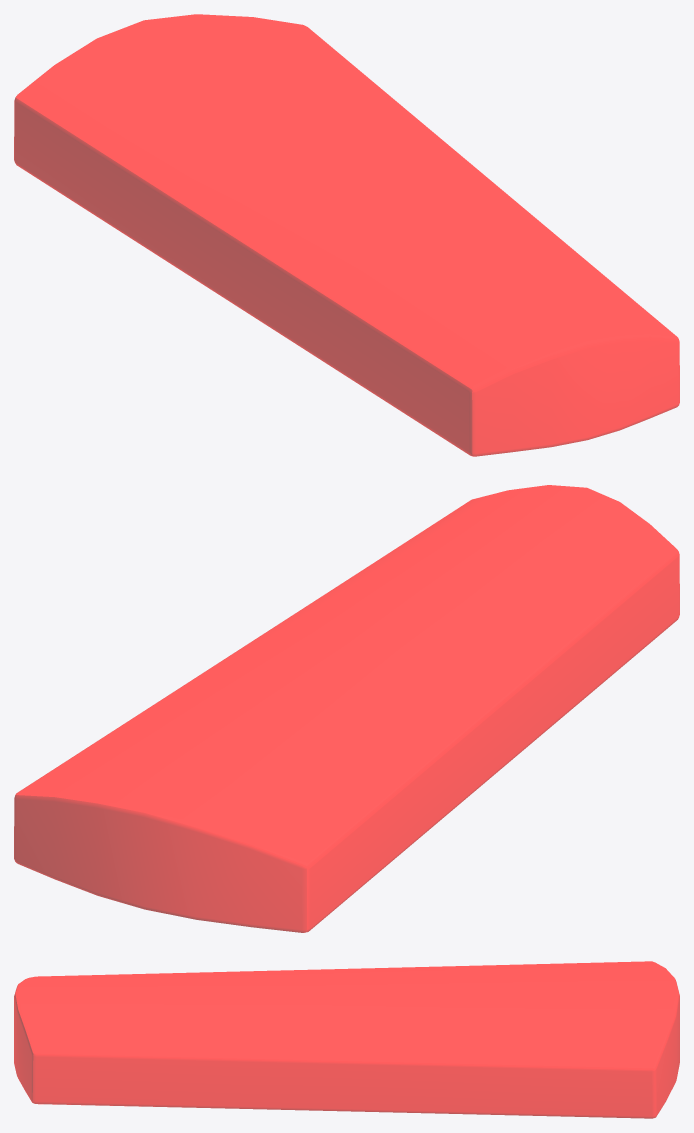
File: xyloKey_2_a_e.fbx
3 renders of one model, top to bottom at view 1: azimuth 30°, elevation 25°; view 2: azimuth 150°, elevation 25°; view 3: azimuth 270°, elevation 25°, orthographic. The views are drawn at different scales.
Visible parts, largest first — view 1: Bar8; view 2: Bar8; view 3: Bar8.
Boxes of the visible parts, left/top/right/bottom form: Bar8: left=14, top=14, right=679, bottom=456; Bar8: left=14, top=485, right=679, bottom=932; Bar8: left=14, top=961, right=679, bottom=1118.
Bounding box in the file's own units: 15.18 × 4.91 × 39.7.
